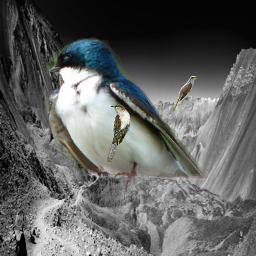Cuckoo: (107, 104, 130, 163), (172, 76, 198, 112)
Swallow: (44, 36, 207, 201)
